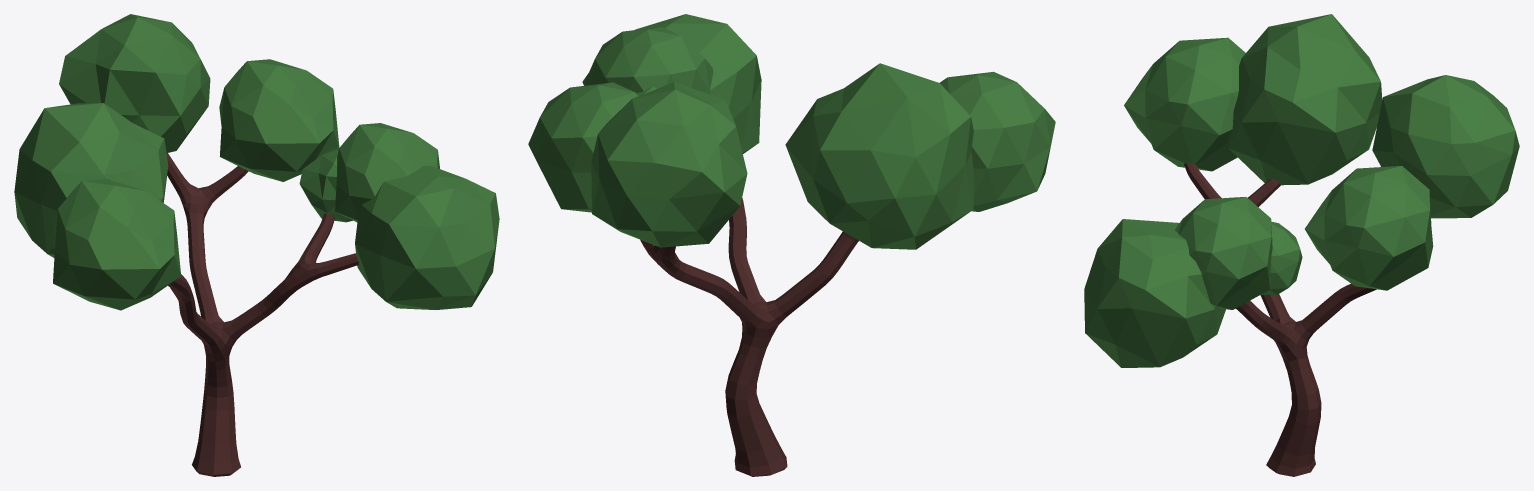
The model's file is LightTree2.fbx.
3 views of the same model, side by side, from view 1: azimuth 30°, elevation 25°; view 2: azimuth 150°, elevation 25°; view 3: azimuth 270°, elevation 25° (orthographic). The views are drawn at different scales.
Visible parts, largest first — view 1: Icosphere, Plane; view 2: Icosphere, Plane; view 3: Icosphere, Plane.
Part boxes in pixels (<box>): Icosphere: <box>14,14,499,310</box>; Plane: <box>166,153,358,476</box>; Icosphere: <box>528,14,1055,249</box>; Plane: <box>640,197,858,476</box>; Icosphere: <box>1084,14,1519,367</box>; Plane: <box>1184,163,1376,476</box>.
Size of the model in its own units: 1124 by 1017 by 1020.
